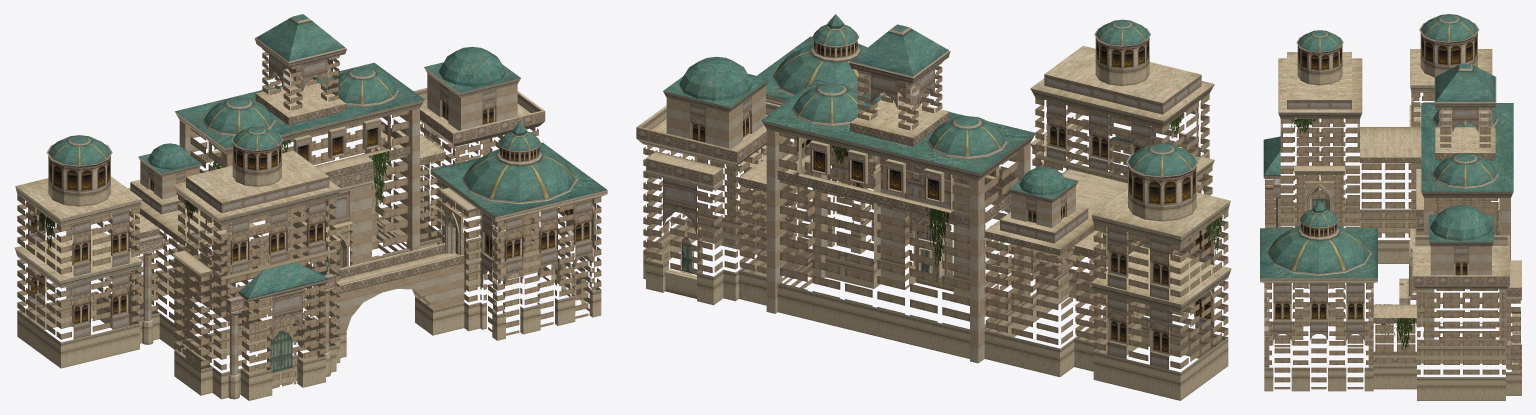
The model's file is thm_nboo_block_bldg_64x32_s01_l0.fbx.
3 views of the same model, side by side, from view 1: azimuth 30°, elevation 25°; view 2: azimuth 150°, elevation 25°; view 3: azimuth 270°, elevation 25° (orthographic). The views are drawn at different scales.
Parts seen in each view (by area): view 1: mesh_node; view 2: mesh_node; view 3: mesh_node.
Part boxes in pixels (x1,y1,x2,y2): mesh_node: (14,14,607,400); mesh_node: (636,14,1231,400); mesh_node: (1260,14,1521,400).
Size of the model in its own units: 63.27 by 32.71 by 32.26.
